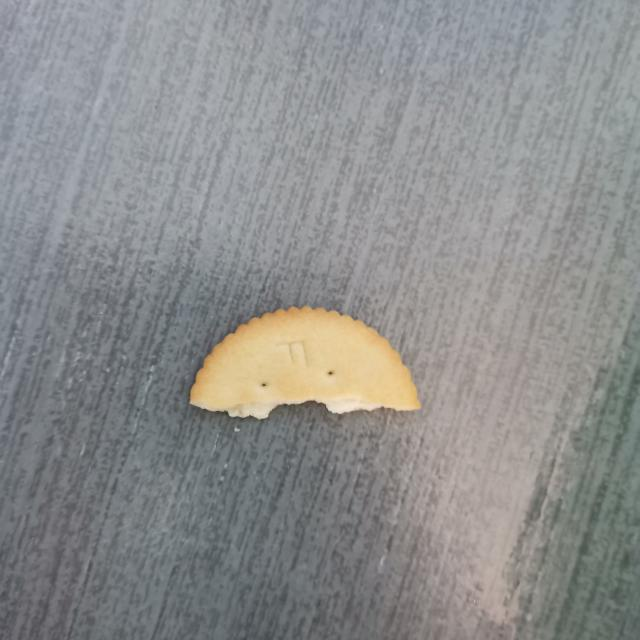Broken: (188, 304, 421, 420)
